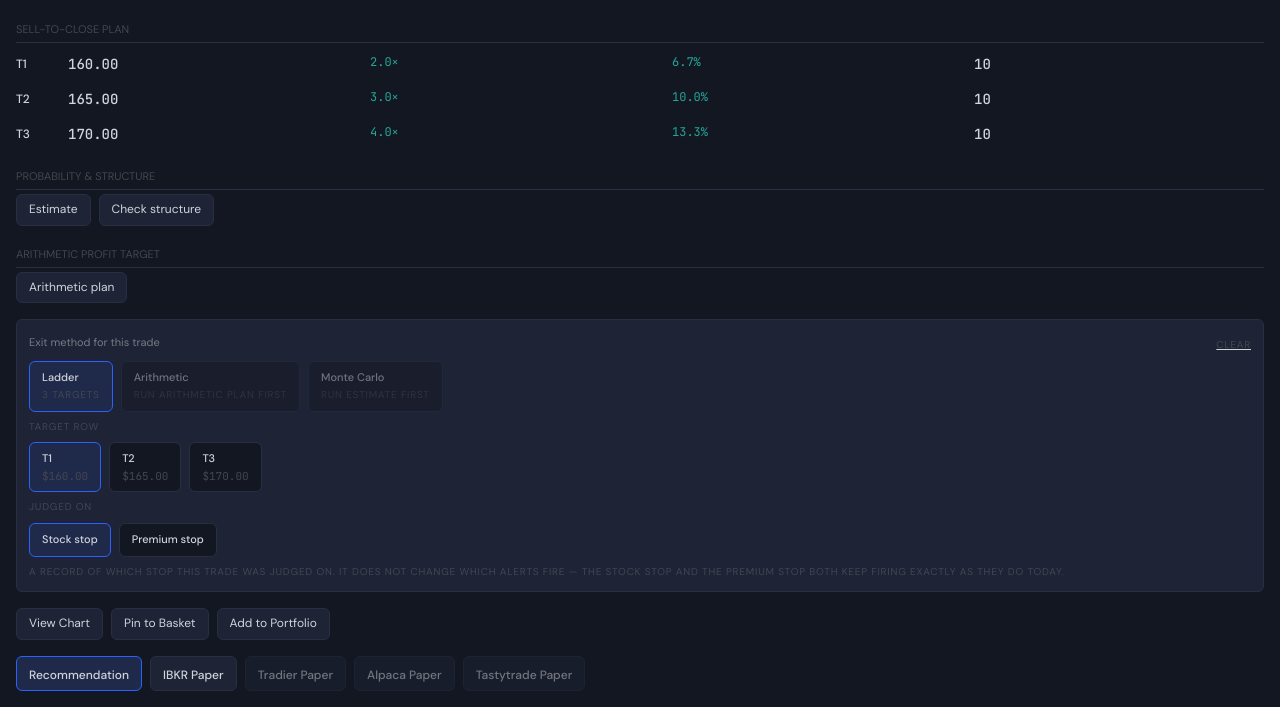
Test case: StockPositionCard — broker order submit() › saves BEFORE ordering and orders the saved (resized) share count
(page scrolled)
Click the button "IBKR Paper": (193, 673) [150,656,237,691]
(page scrolled)
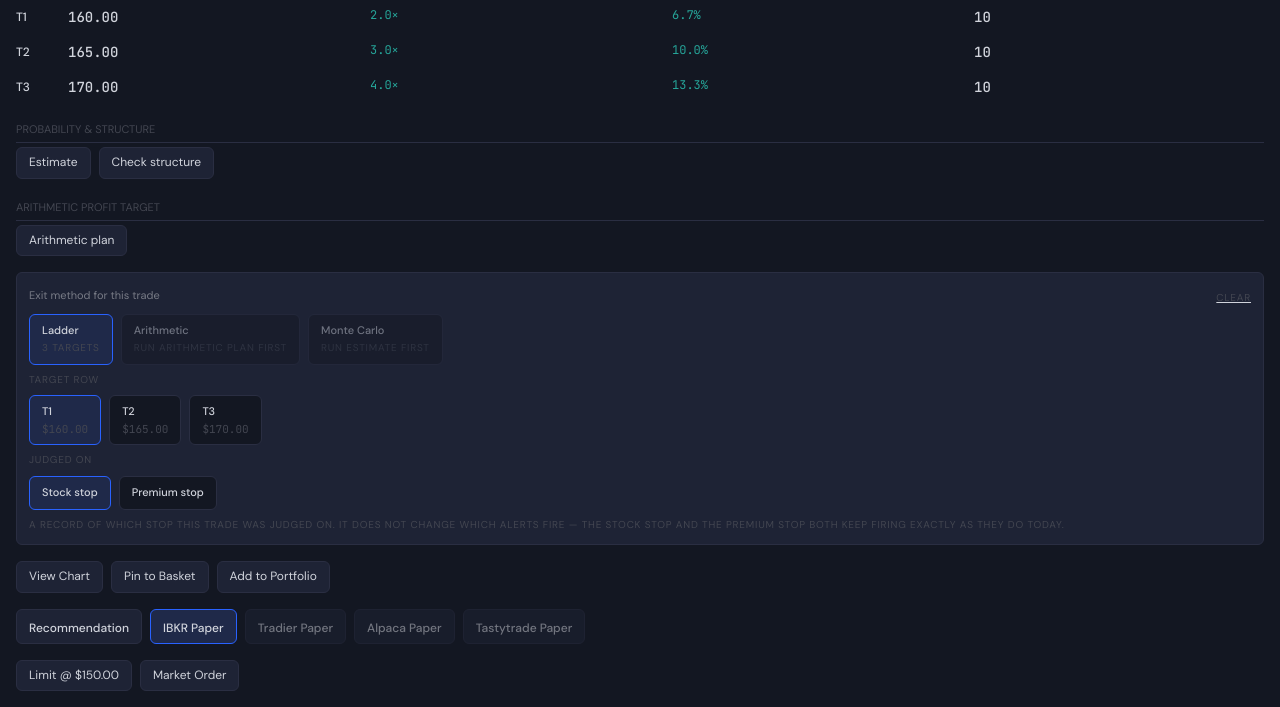
Click the button "Limit @ $150.00": (74, 676) [16,660,132,692]
(page scrolled)
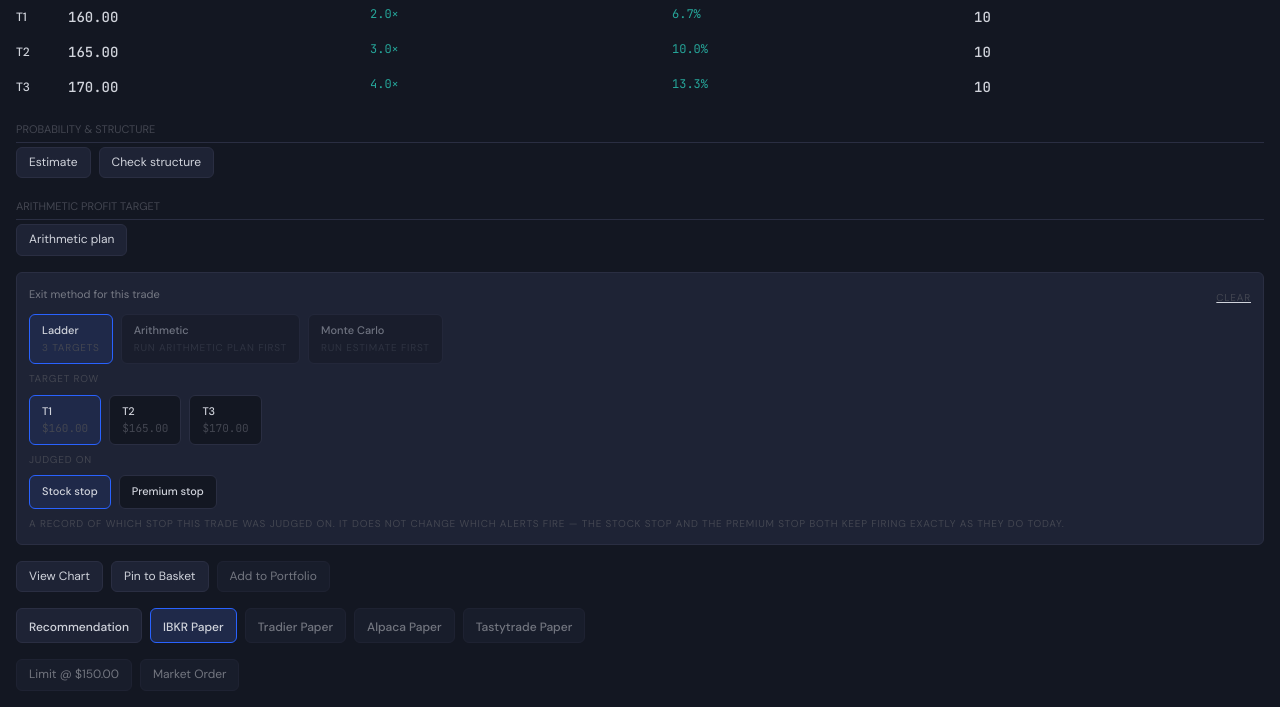
Check: the button "Limit @ $150.00" is disabled, box [16,660,132,691]
